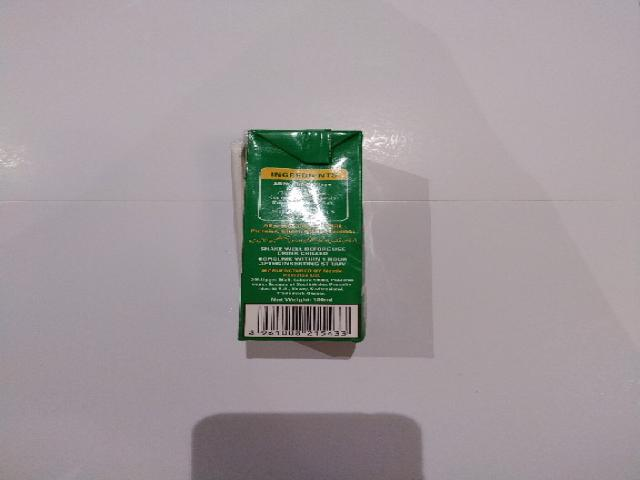drink_box: (233, 127, 371, 344)
